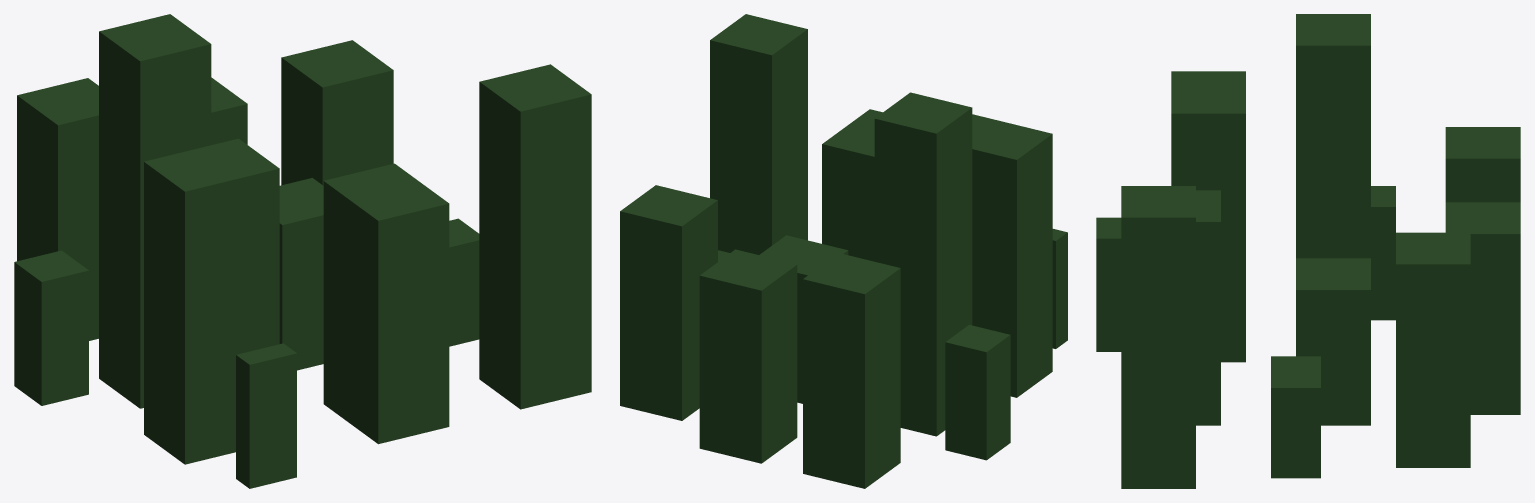
File: GGJ Grass Weed 1.obj
The picture shows the model from 3 angles, left to right: view 1: azimuth 30°, elevation 25°; view 2: azimuth 150°, elevation 25°; view 3: azimuth 270°, elevation 25°; orthographic projection. The views are drawn at different scales.
Bounding box in the file's own units: 1.8 × 1.4 × 1.7.
1 material, 1 textured.
